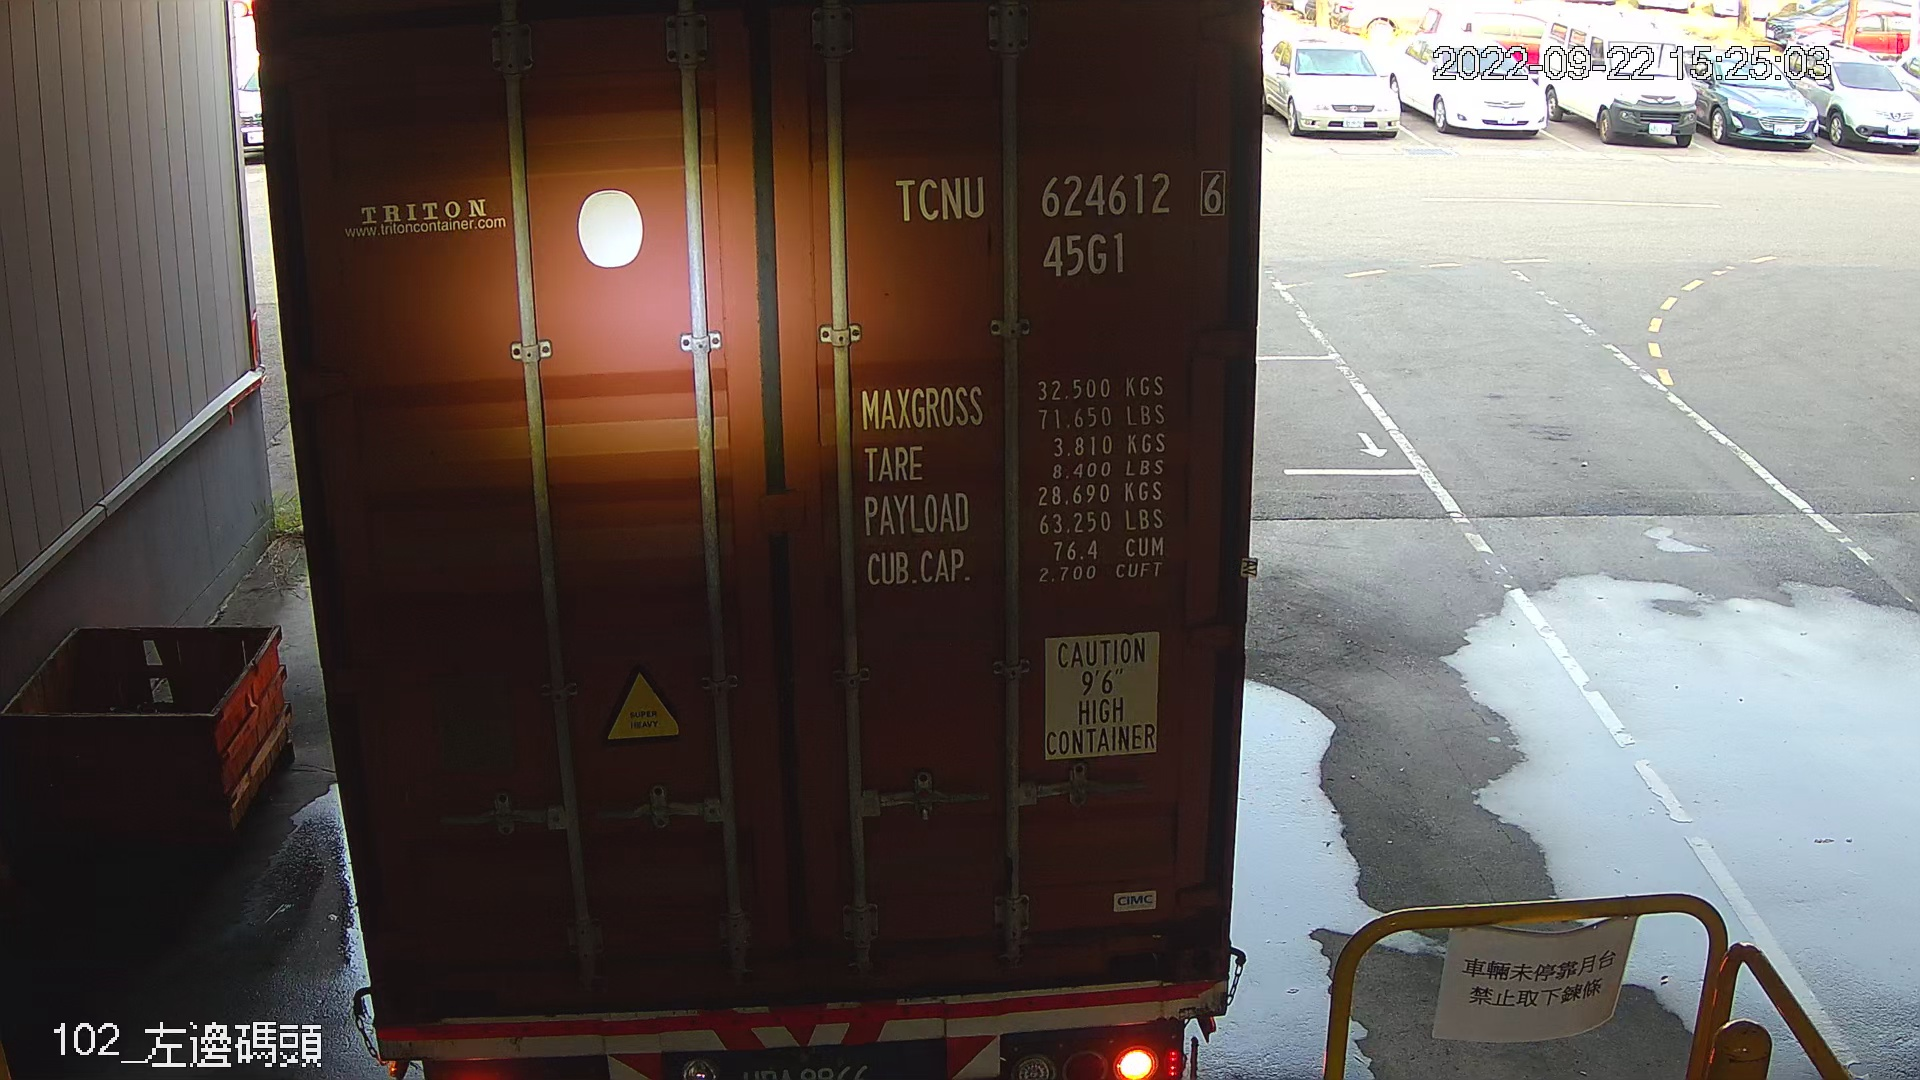container: (881, 161, 1236, 289)
